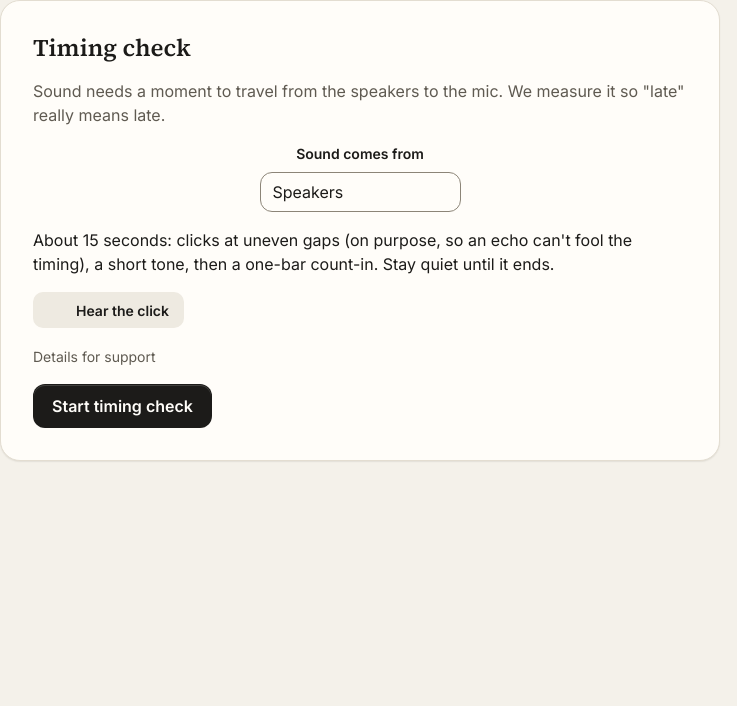
Test: CalibrationCard › Bluetooth evidence with a long delay: the cause is named in caution tone, instead of the neutral line (R80)
The width and height of the screenshot is (737, 706).
Click the button "Start timing check" at {"x": 122, "y": 406}, box [33,384,212,428]
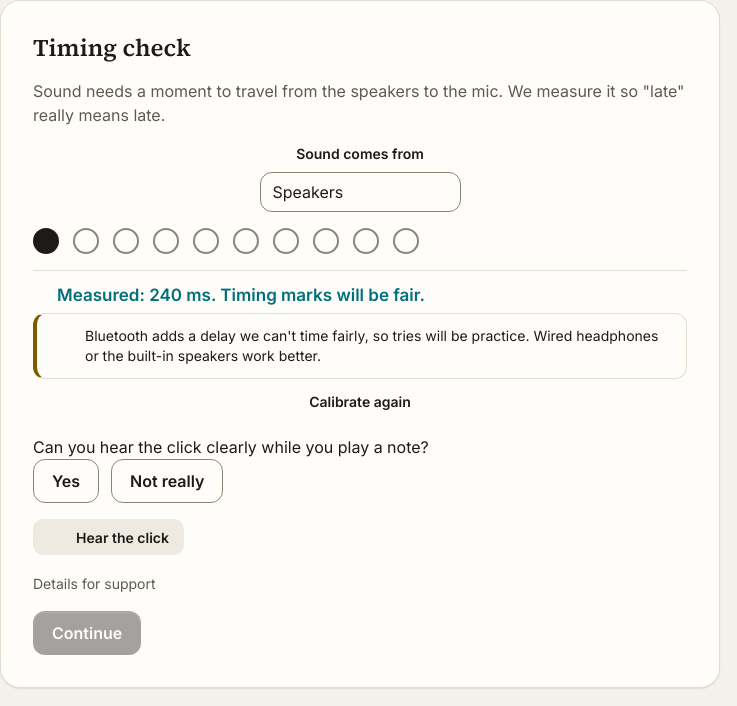
Expected: the message with class "ui-banner-caution" shows "Bluetooth adds a delay we can't time fairly, so tries will be practice.", [85,326,658,364]
